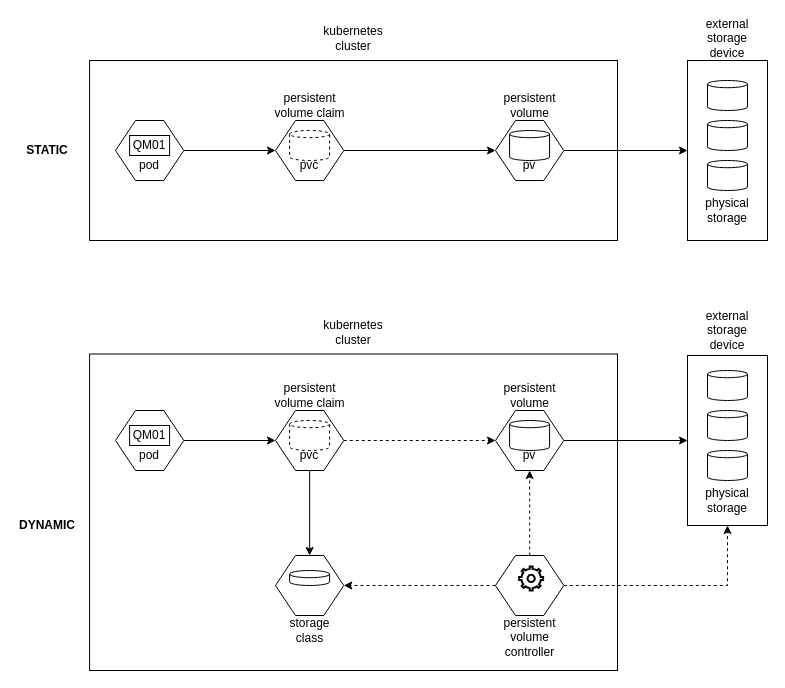
This 785x688 diagram has some shape labels left out. The shapes that lost their labels are listed below. From the top down, each one's box as (x1, y1, x2, y2) in pixels, then its label:
(274, 554, 344, 616): sc
(494, 554, 564, 616): pvx
